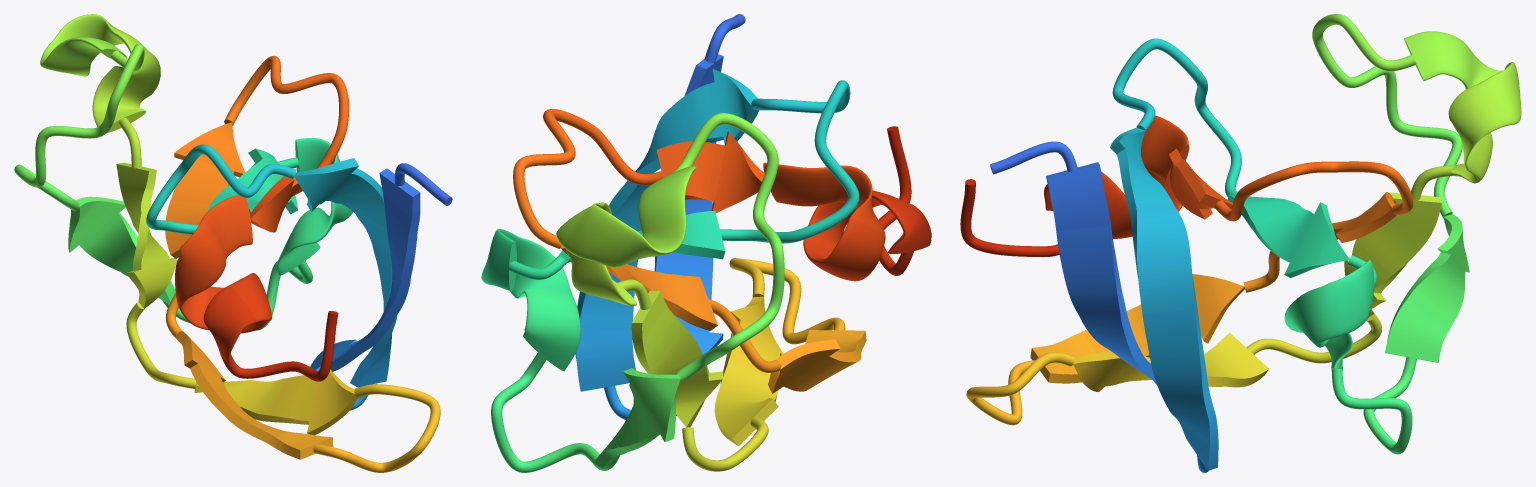
The model's file is cartoon.obj.
3 views of the same model, side by side, from view 1: azimuth 30°, elevation 25°; view 2: azimuth 150°, elevation 25°; view 3: azimuth 270°, elevation 25° (orthographic). The views are drawn at different scales.
Size of the model in its own units: 22.6 by 26.2 by 35.17.
